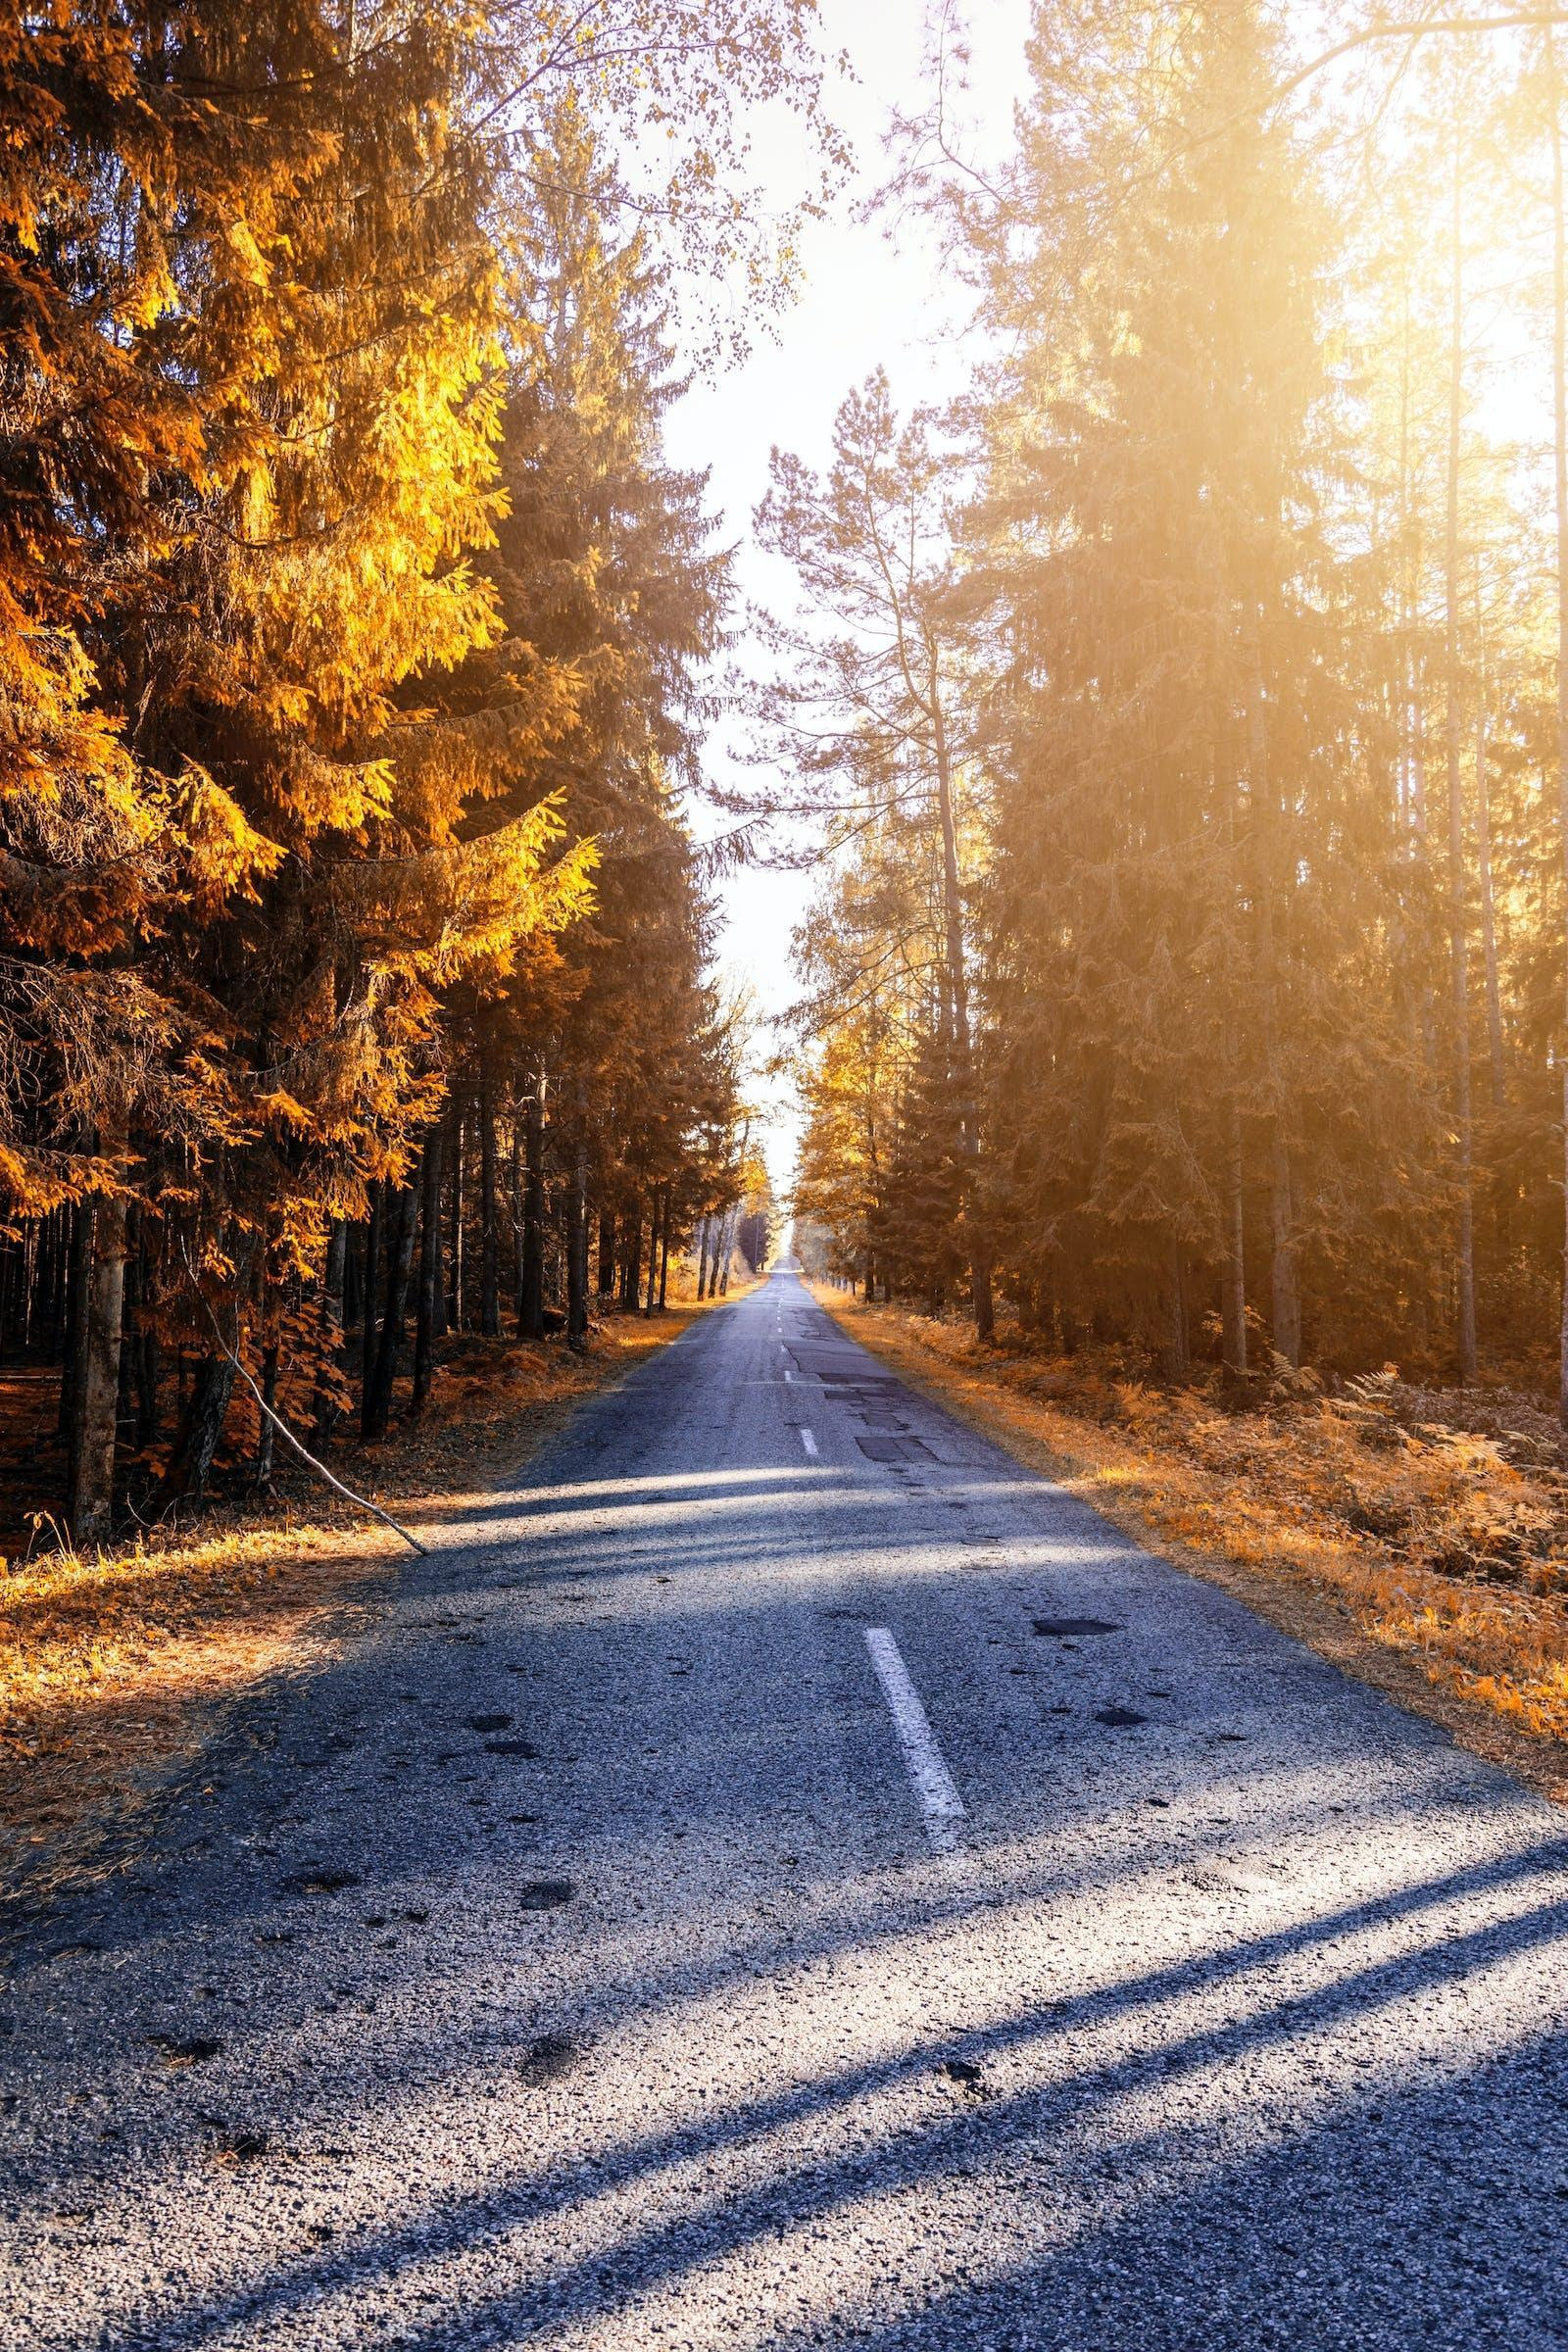road: (5, 1276, 1564, 2350)
